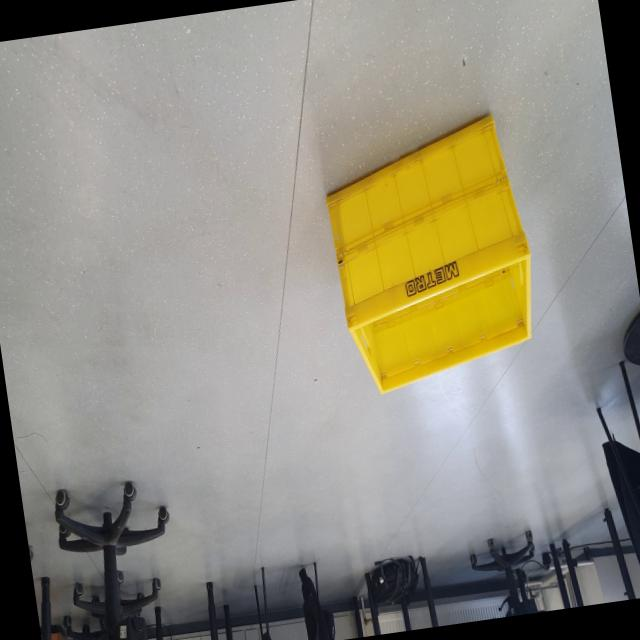box: (311, 106, 554, 402)
